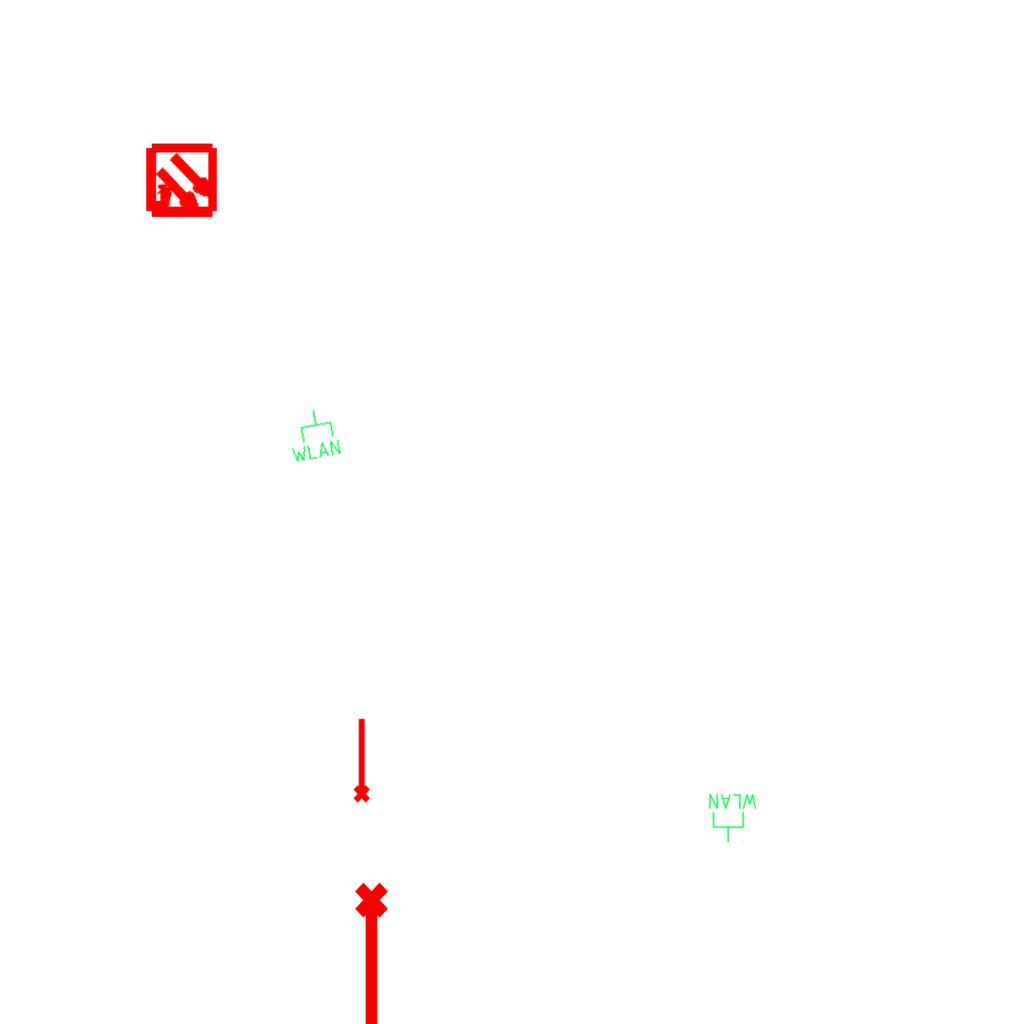ASR_Ansaugoeffnung: (351, 880, 397, 1024), (349, 716, 372, 804)
OT_Multisensormelder_(Kombination_RMO_WMD): (125, 126, 238, 239)
WLAN: (282, 404, 344, 466), (707, 792, 759, 844)
